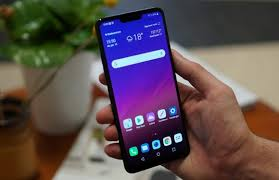lg: (93, 5, 192, 174)
